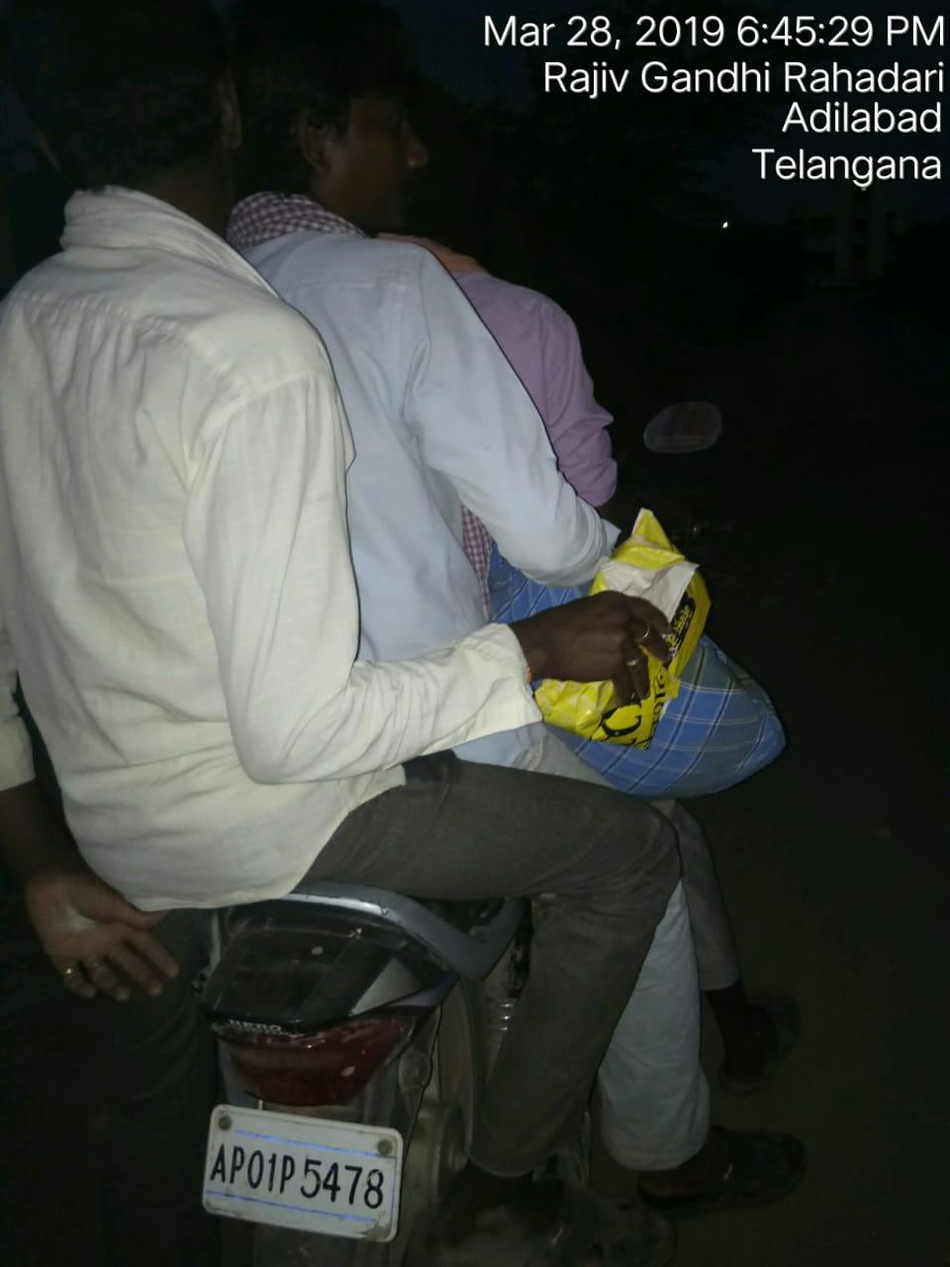plate: (177, 1091, 422, 1248)
